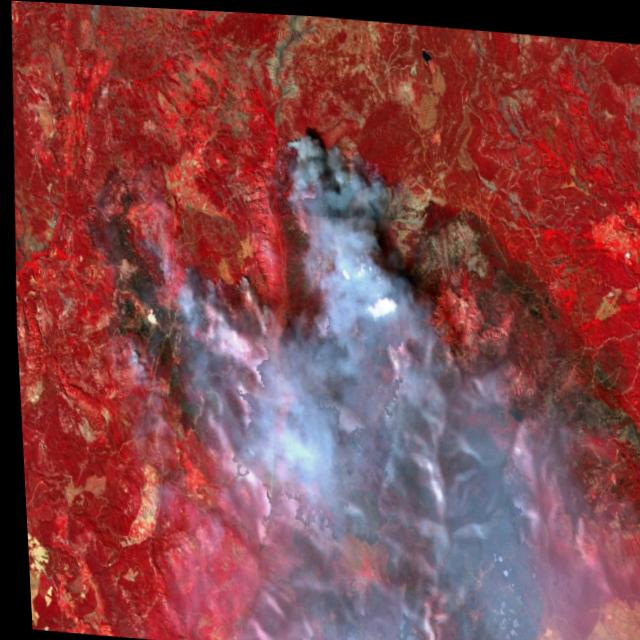fire: (84, 166, 283, 411), (275, 104, 427, 221)
